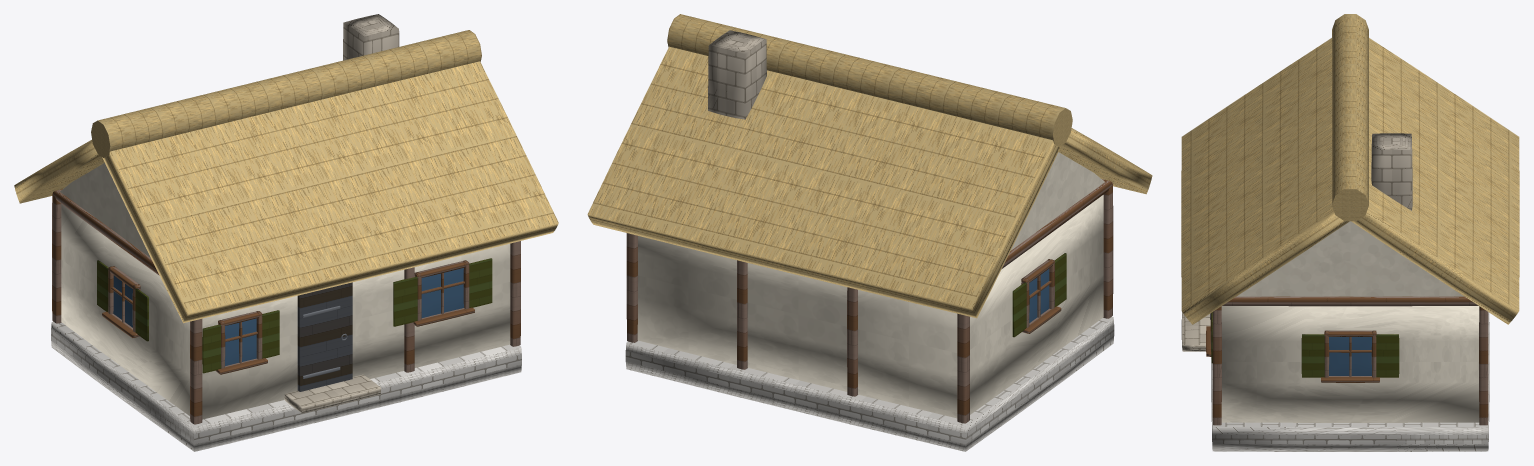
File: building_cottage.glb
3 views of the same model, side by side, from view 1: azimuth 30°, elevation 25°; view 2: azimuth 150°, elevation 25°; view 3: azimuth 270°, elevation 25° (orthographic). The views are drawn at different scales.
Visible parts, largest first — view 1: building_cottage, building_cottage_stone_blocks; view 2: building_cottage, building_cottage_stone_blocks; view 3: building_cottage, building_cottage_stone_blocks.
Part boxes in pixels (bbox=[...]): building_cottage: bbox=[14, 30, 558, 424]; building_cottage_stone_blocks: bbox=[51, 14, 521, 451]; building_cottage: bbox=[587, 14, 1152, 423]; building_cottage_stone_blocks: bbox=[625, 30, 1114, 451]; building_cottage: bbox=[1181, 14, 1519, 425]; building_cottage_stone_blocks: bbox=[1181, 133, 1489, 451].
Bounding box in the file's own units: 7 × 5.3 × 5.71.
7 materials, 5 textured.
